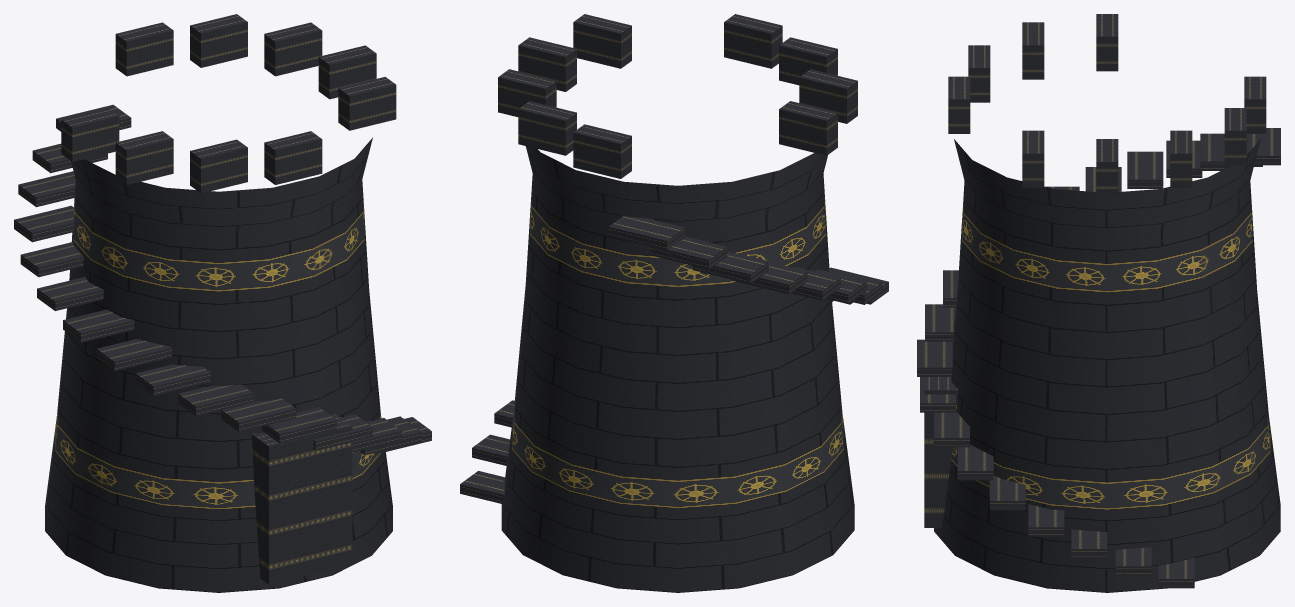
The model's file is ruined_watchtower.glb.
3 renders of one model, left to right at view 1: azimuth 30°, elevation 25°; view 2: azimuth 150°, elevation 25°; view 3: azimuth 270°, elevation 25°, orthographic.
Parts seen in each view (by area): view 1: Node_RuinedWatchtower; view 2: Node_RuinedWatchtower; view 3: Node_RuinedWatchtower.
Boxes of the visible parts, <box> form: Node_RuinedWatchtower: <box>14,14,431,592</box>; Node_RuinedWatchtower: <box>460,14,888,592</box>; Node_RuinedWatchtower: <box>917,14,1280,592</box>.
Size of the model in its own units: 10.25 by 11.88 by 9.09.
Materials: 1 (1 with a texture image).
